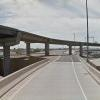Bridge: (0, 18, 97, 61)
